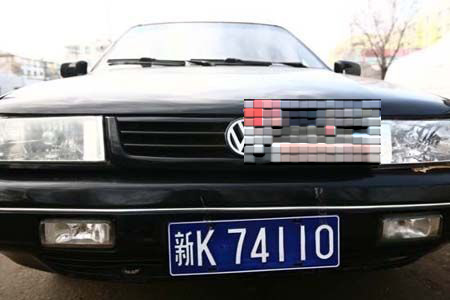plate_number: (168, 216, 341, 272)
